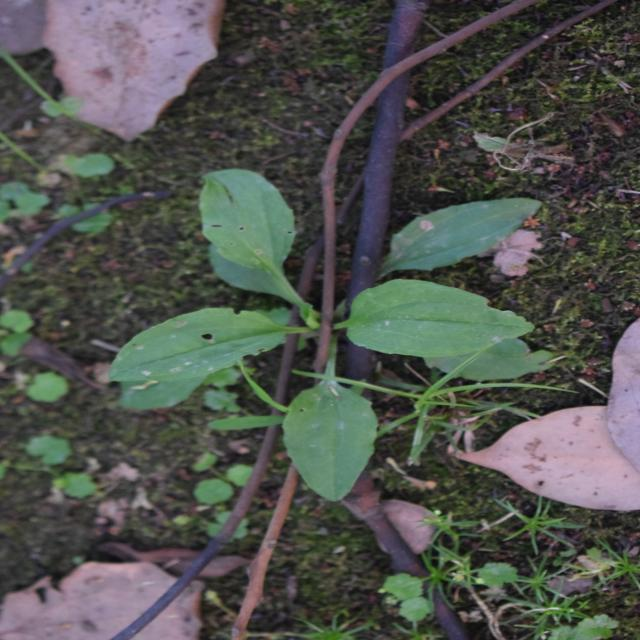plantain: (182, 111, 467, 511)
